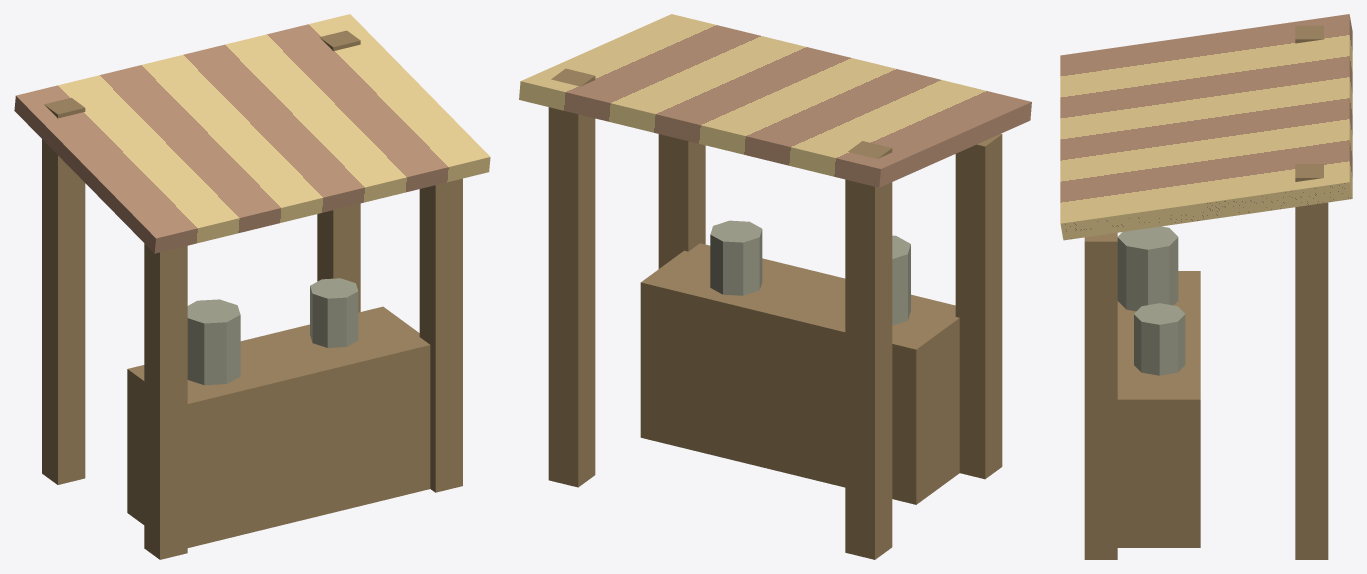
File: stall.glb
3 views of the same model, side by side, from view 1: azimuth 30°, elevation 25°; view 2: azimuth 150°, elevation 25°; view 3: azimuth 270°, elevation 25° (orthographic). The views are drawn at different scales.
Visible parts, largest first — view 1: Canopy, Counter, PostBL, PostFL, PostFR, Jar1, PostBR, Jar2; view 2: Counter, Canopy, PostBL, PostBR, PostFL, PostFR, Jar2, Jar1; view 3: Canopy, Counter, PostBR, PostFR, Jar1, Jar2, PostBL.
Part boxes in pixels (<box>): Canopy: <box>14,14,490,253</box>; Counter: <box>127,306,430,547</box>; PostBL: <box>42,97,85,484</box>; PostFL: <box>144,243,187,559</box>; PostFR: <box>419,178,462,492</box>; Jar1: <box>187,299,240,385</box>; PostBR: <box>317,30,360,312</box>; Jar2: <box>310,278,358,347</box>; Counter: <box>640,243,959,504</box>; Canopy: <box>519,14,1031,187</box>; PostBL: <box>845,141,892,559</box>; PostBR: <box>548,68,595,487</box>; PostFL: <box>955,134,1002,479</box>; PostFR: <box>658,134,705,268</box>; Jar2: <box>710,220,762,295</box>; Jar1: <box>892,235,910,325</box>; Canopy: <box>1060,14,1352,240</box>; Counter: <box>1117,271,1200,547</box>; PostBR: <box>1295,164,1328,559</box>; PostFR: <box>1084,232,1117,559</box>; Jar1: <box>1117,226,1178,311</box>; Jar2: <box>1134,303,1185,375</box>; PostBL: <box>1295,25,1323,43</box>.
Size of the model in its own units: 1.7 by 1.82 by 1.25.
Materials: 4 (1 with a texture image).
